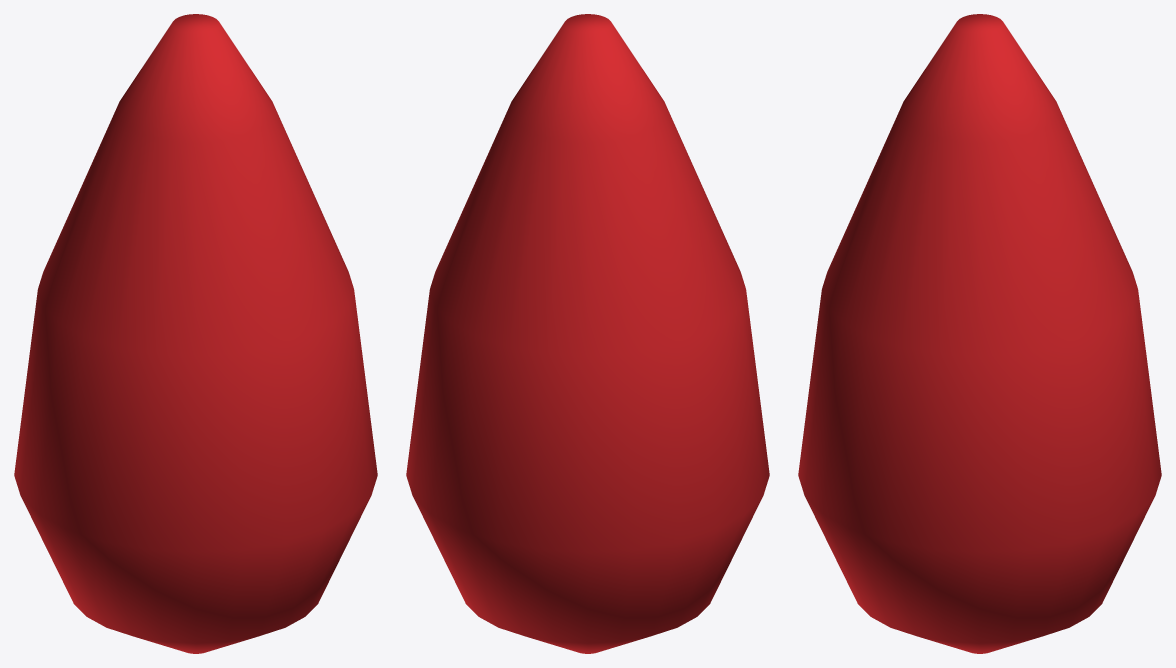
The model's file is harpe_sinker.glb.
3 views of the same model, side by side, from view 1: azimuth 30°, elevation 25°; view 2: azimuth 150°, elevation 25°; view 3: azimuth 270°, elevation 25° (orthographic).
Parts seen in each view (by area): view 1: Red teardrop sinker; view 2: Red teardrop sinker; view 3: Red teardrop sinker.
Boxes of the visible parts, x1=… form: Red teardrop sinker: x1=14, y1=14, x2=377, y2=653; Red teardrop sinker: x1=406, y1=14, x2=769, y2=653; Red teardrop sinker: x1=798, y1=14, x2=1161, y2=653.
Bounding box in the file's own units: 0.046 × 0.087 × 0.046.
